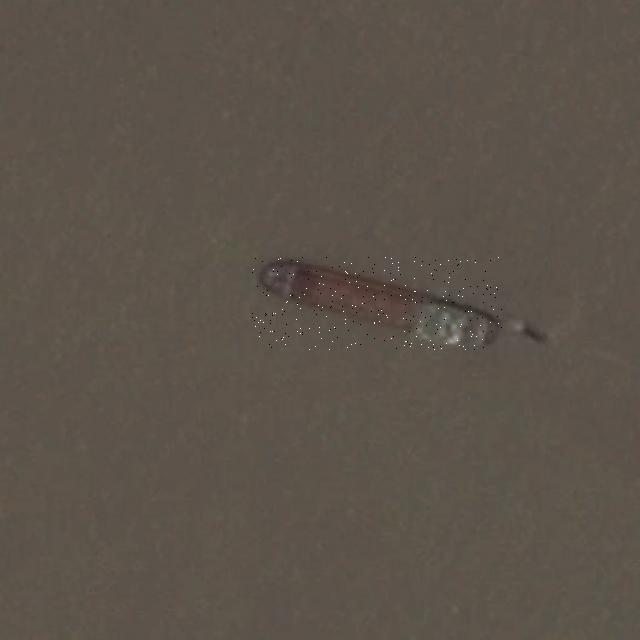boat: (252, 257, 502, 350)
